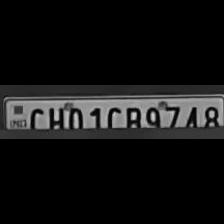0: (64, 105, 84, 131)
1: (86, 106, 104, 130)
4: (180, 103, 200, 129)
7: (162, 102, 180, 131)
8: (199, 103, 219, 129)
9: (144, 104, 162, 130)
B: (122, 104, 142, 130)
C: (26, 105, 46, 131), (102, 105, 120, 129)
H: (47, 104, 66, 132)
